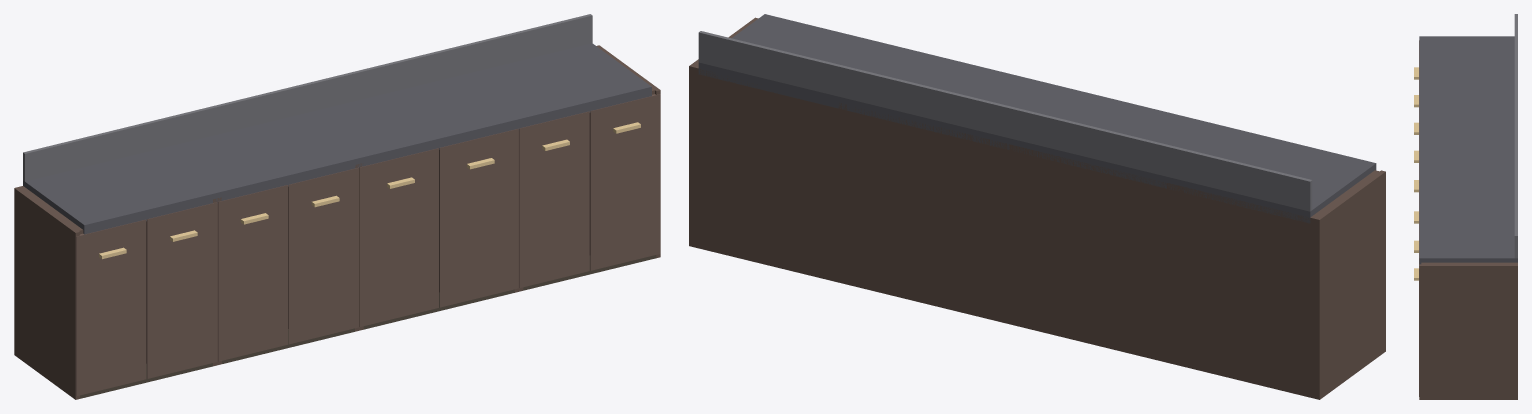
3 views of the same model, side by side, from view 1: azimuth 30°, elevation 25°; view 2: azimuth 150°, elevation 25°; view 3: azimuth 270°, elevation 25° (orthographic). The views are drawn at different scales.
Parts seen in each view (by area): view 1: Countertop, Backsplash, Lower_Cabinet_Sink_Door_Right, Lower_Cabinet_Sink_Door_Left, Lower_Cabinet_4_Door_Right, Lower_Cabinet_1_Door_Right, Lower_Cabinet_1_Door_Left, Lower_Cabinet_2_Door_Left, Lower_Cabinet_4_Door_Left, Lower_Cabinet_2_Door_Right, Lower_Cabinet_1_Left_Side, Lower_Cabinet_Sink_Toe_Kick (+3 smaller); view 2: Lower_Cabinet_Sink_Back, Countertop, Lower_Cabinet_1_Back, Lower_Cabinet_2_Back, Lower_Cabinet_4_Back, Backsplash, Lower_Cabinet_1_Left_Side, Lower_Cabinet_Sink_Left_Side, Lower_Cabinet_4_Left_Side, Lower_Cabinet_2_Left_Side, Lower_Cabinet_Sink_Right_Side, Lower_Cabinet_4_Right_Side; view 3: Countertop, Lower_Cabinet_4_Right_Side, Backsplash, Lower_Cabinet_4_Back, Lower_Cabinet_4_Top, Lower_Cabinet_4_Door_Right.
Part boxes in pixels (bbox=[...]): Countertop: bbox=[23, 43, 651, 234]; Backsplash: bbox=[23, 14, 592, 181]; Lower_Cabinet_Sink_Door_Right: bbox=[439, 128, 518, 307]; Lower_Cabinet_Sink_Door_Left: bbox=[359, 148, 438, 326]; Lower_Cabinet_4_Door_Right: bbox=[589, 94, 660, 270]; Lower_Cabinet_1_Door_Right: bbox=[146, 202, 217, 378]; Lower_Cabinet_1_Door_Left: bbox=[76, 219, 146, 396]; Lower_Cabinet_2_Door_Left: bbox=[218, 185, 288, 361]; Lower_Cabinet_4_Door_Left: bbox=[519, 111, 589, 287]; Lower_Cabinet_2_Door_Right: bbox=[288, 167, 358, 344]; Lower_Cabinet_1_Left_Side: bbox=[14, 187, 79, 399]; Lower_Cabinet_Sink_Toe_Kick: bbox=[363, 289, 514, 329]; Lower_Cabinet_Sink_Back: bbox=[842, 107, 1013, 323]; Countertop: bbox=[698, 14, 1376, 223]; Lower_Cabinet_1_Back: bbox=[1167, 183, 1321, 399]; Lower_Cabinet_2_Back: bbox=[1014, 145, 1166, 362]; Lower_Cabinet_4_Back: bbox=[689, 65, 841, 282]; Backsplash: bbox=[698, 31, 1312, 211]; Lower_Cabinet_1_Left_Side: bbox=[1315, 170, 1385, 399]; Lower_Cabinet_Sink_Left_Side: bbox=[1009, 144, 1013, 325]; Lower_Cabinet_4_Left_Side: bbox=[837, 103, 841, 283]; Lower_Cabinet_2_Left_Side: bbox=[1162, 182, 1166, 362]; Lower_Cabinet_Sink_Right_Side: bbox=[842, 104, 846, 284]; Lower_Cabinet_4_Right_Side: bbox=[689, 17, 758, 246]; Countertop: bbox=[1419, 36, 1517, 264]; Lower_Cabinet_4_Right_Side: bbox=[1419, 264, 1517, 399]; Backsplash: bbox=[1514, 14, 1517, 258]; Lower_Cabinet_4_Back: bbox=[1513, 262, 1517, 399]; Lower_Cabinet_4_Top: bbox=[1421, 262, 1515, 264]; Lower_Cabinet_4_Door_Right: bbox=[1419, 242, 1419, 396].
Bounding box in the file's own units: 3.3 × 1.08 × 0.6325.
